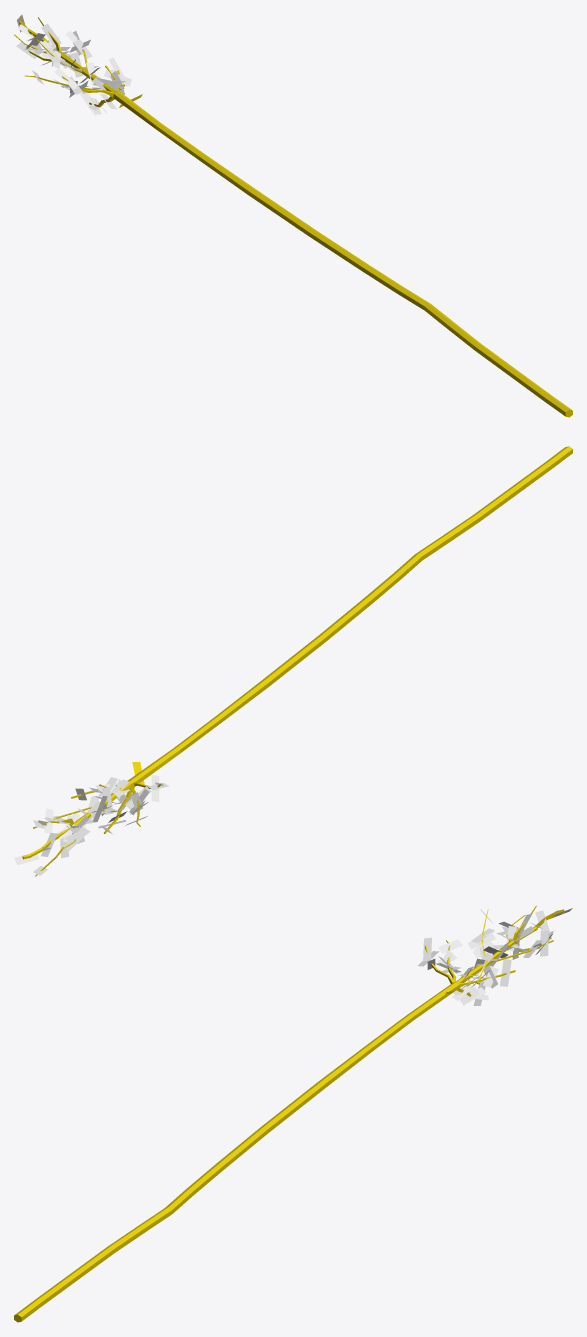
The model's file is HeinaObj5.fbx.
3 views of the same model, one above another, from view 1: azimuth 30°, elevation 25°; view 2: azimuth 150°, elevation 25°; view 3: azimuth 330°, elevation 25° (orthographic). The views are drawn at different scales.
Visible parts, largest first — view 1: Cube; view 2: Cube; view 3: Cube.
Boxes of the visible parts, x1,y1,x2,y2 form: Cube: (14, 17, 572, 417); Cube: (22, 446, 572, 876); Cube: (14, 905, 564, 1322).
Size of the model in its own units: 7.34 by 5.66 by 84.41.
